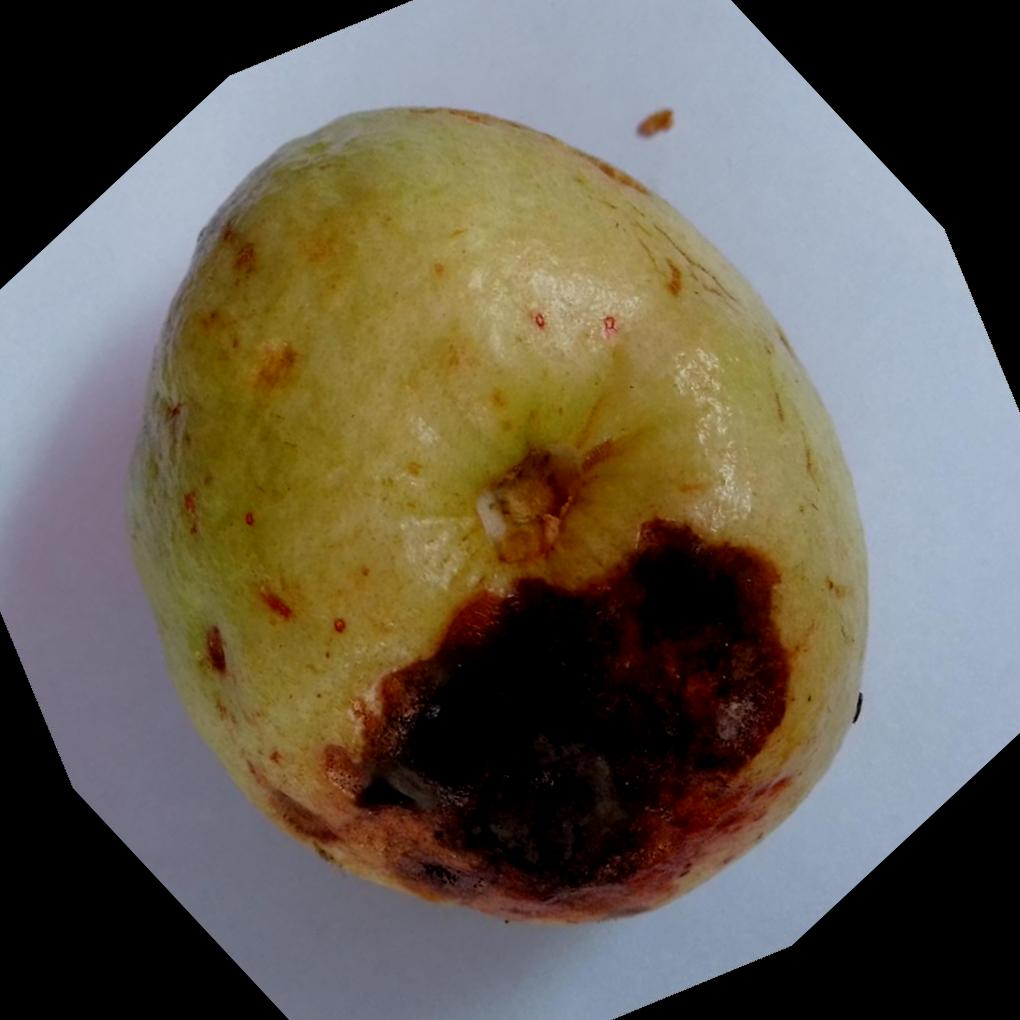FreshOrange: (119, 106, 871, 930)
